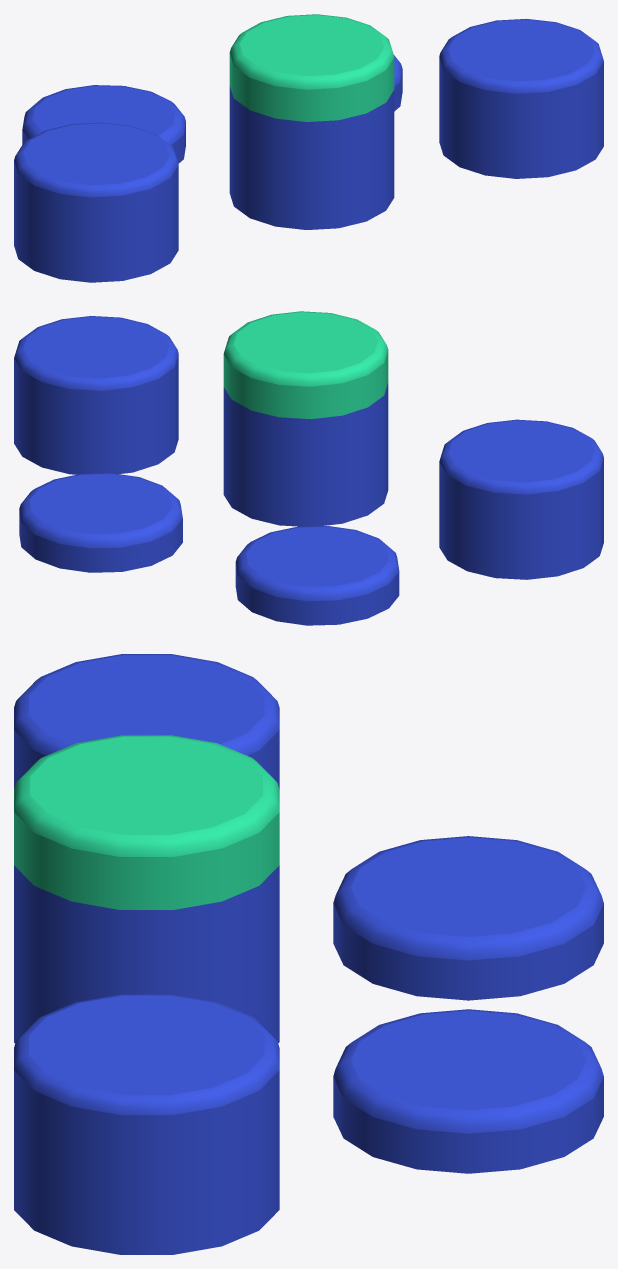
File: M_levelendlb.fbx
3 renders of one model, top to bottom at view 1: azimuth 30°, elevation 25°; view 2: azimuth 150°, elevation 25°; view 3: azimuth 270°, elevation 25°, orthographic. The views are drawn at different scales.
Parts seen in each view (by area): view 1: Cylinder.003, Cylinder.005, Cylinder.004, Cylinder.006, Cylinder.002; view 2: Cylinder.003, Cylinder.005, Cylinder.004, Cylinder.006, Cylinder.002; view 3: Cylinder.003, Cylinder.004, Cylinder.006, Cylinder.002, Cylinder.005.
Part boxes in pixels (x1,y1,x2,y2): Cylinder.003: [229, 14, 394, 229]; Cylinder.005: [14, 122, 178, 282]; Cylinder.004: [439, 18, 603, 178]; Cylinder.006: [22, 85, 185, 163]; Cylinder.002: [394, 55, 402, 111]; Cylinder.003: [223, 311, 388, 526]; Cylinder.005: [439, 419, 603, 579]; Cylinder.004: [14, 316, 178, 474]; Cylinder.006: [235, 526, 399, 625]; Cylinder.002: [19, 473, 182, 572]; Cylinder.003: [14, 735, 279, 1043]; Cylinder.004: [14, 994, 279, 1254]; Cylinder.006: [333, 836, 603, 1000]; Cylinder.002: [333, 1009, 603, 1173]; Cylinder.005: [14, 654, 279, 789].
Bounding box in the file's own units: 4.6 × 1.16 × 2.54.
